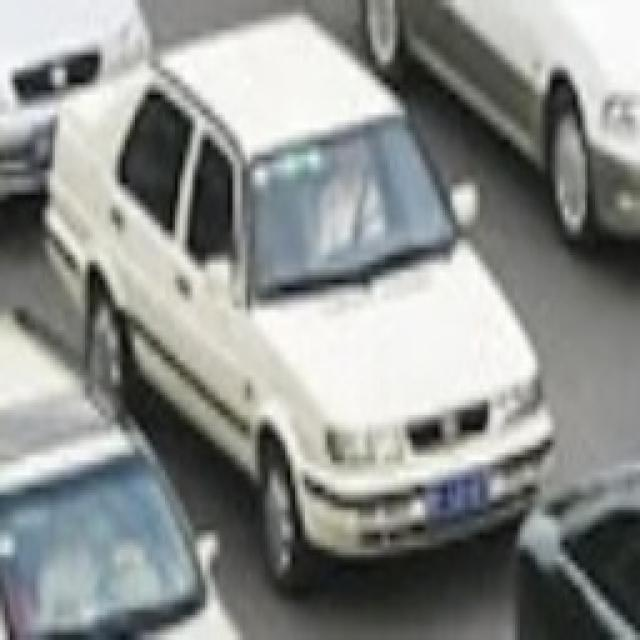windshield: (235, 114, 476, 287)
